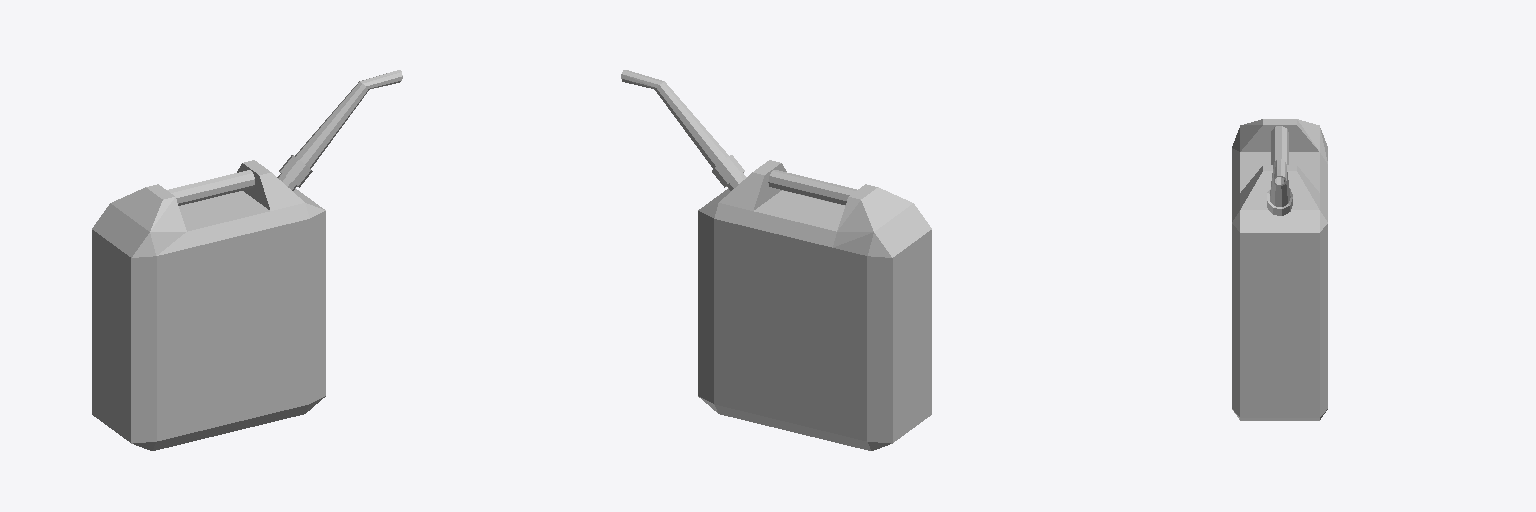
Rendered from Gas Can.obj.
The picture shows the model from 3 angles: view 1: azimuth 30°, elevation 25°; view 2: azimuth 150°, elevation 25°; view 3: azimuth 270°, elevation 25°; orthographic projection.
Parts seen in each view (by area): view 1: Cube; view 2: Cube; view 3: Cube.
Boxes of the visible parts, x1,y1,x2,y2 form: Cube: [92, 70, 402, 450]; Cube: [621, 70, 931, 450]; Cube: [1232, 119, 1327, 420].
Bounding box in the file's own units: 0.8484 × 0.8468 × 0.2459.